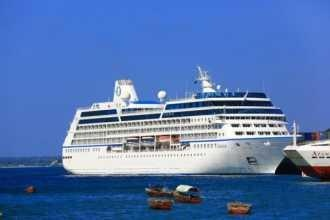otherboat: (176, 182, 202, 203), (147, 196, 174, 212), (227, 199, 253, 213)
yacht: (61, 62, 296, 180)
